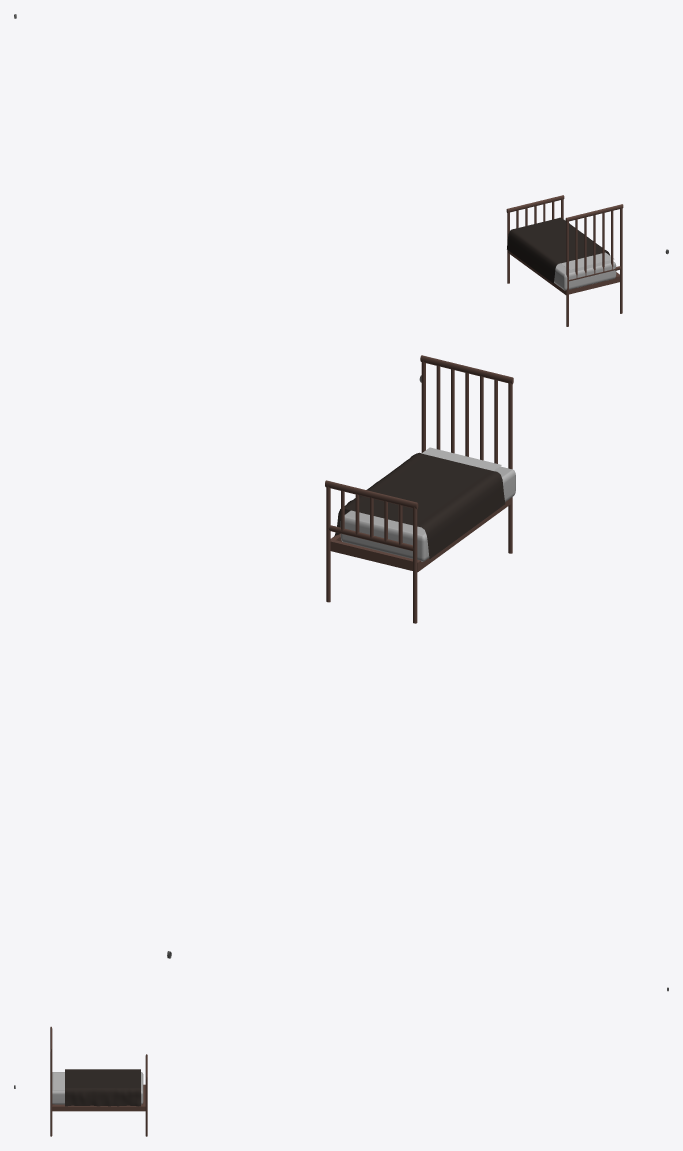
File: bed.glb
The picture shows the model from 3 angles, top to bottom: view 1: azimuth 30°, elevation 25°; view 2: azimuth 150°, elevation 25°; view 3: azimuth 270°, elevation 25°; orthographic projection. The views are drawn at different scales.
Parts seen in each view (by area): view 1: PrisonBed_BedSheetRenk_0, PrisonBed_Yatak_Demiri_0, PrisonBed_Yatak_0; view 2: PrisonBed_Yatak_Demiri_0, PrisonBed_BedSheetRenk_0, PrisonBed_Yatak_0; view 3: PrisonBed_BedSheetRenk_0, PrisonBed_Yatak_Demiri_0, PrisonBed_Yatak_0.
Part boxes in pixels (x1=…): PrisonBed_BedSheetRenk_0: x1=507, y1=217, x2=610, y2=283; PrisonBed_Yatak_Demiri_0: x1=506, y1=195, x2=623, y2=326; PrisonBed_Yatak_0: x1=508, y1=235, x2=616, y2=290; PrisonBed_Yatak_Demiri_0: x1=325, y1=355, x2=513, y2=623; PrisonBed_BedSheetRenk_0: x1=334, y1=452, x2=505, y2=559; PrisonBed_Yatak_0: x1=340, y1=466, x2=515, y2=561; PrisonBed_BedSheetRenk_0: x1=65, y1=1069, x2=140, y2=1106; PrisonBed_Yatak_Demiri_0: x1=50, y1=1026, x2=147, y2=1136; PrisonBed_Yatak_0: x1=52, y1=1072, x2=143, y2=1104.
Size of the model in its own units: 10.71 by 4.46 by 30.08.
